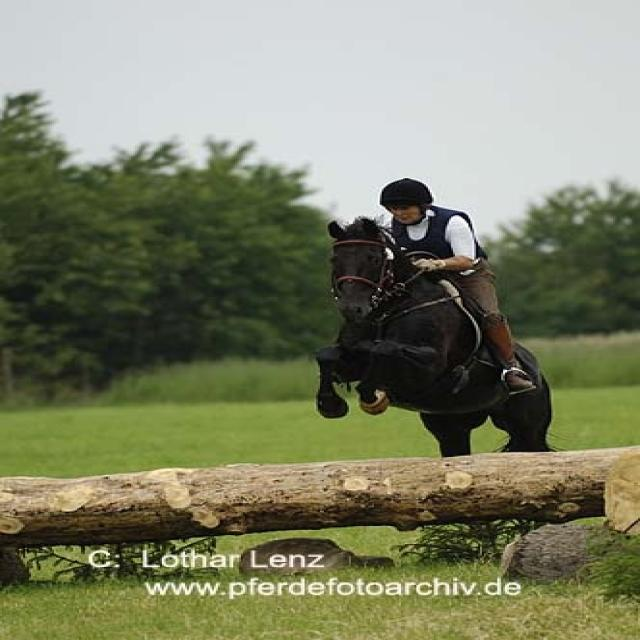horse: (312, 219, 554, 459)
